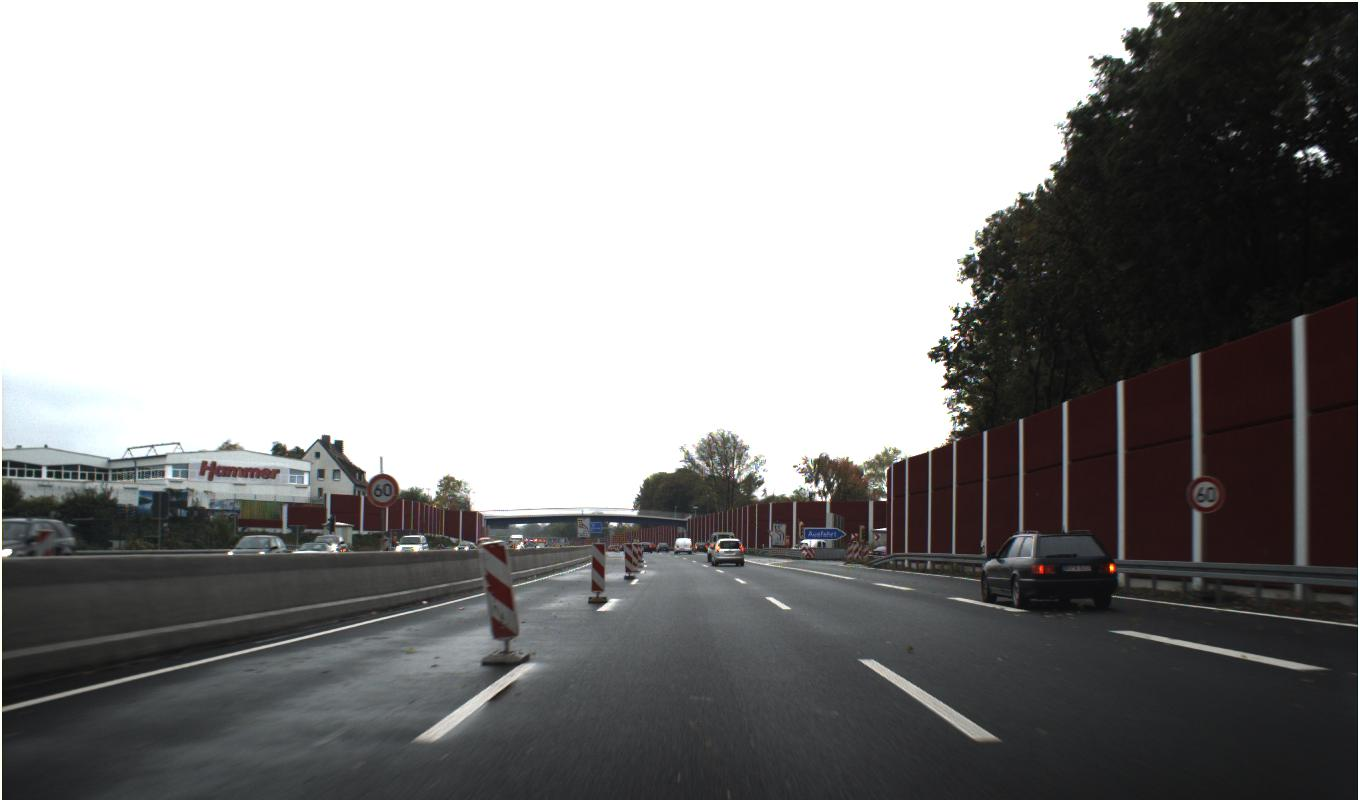prohibitory: (1186, 475, 1225, 514), (366, 473, 399, 508)
